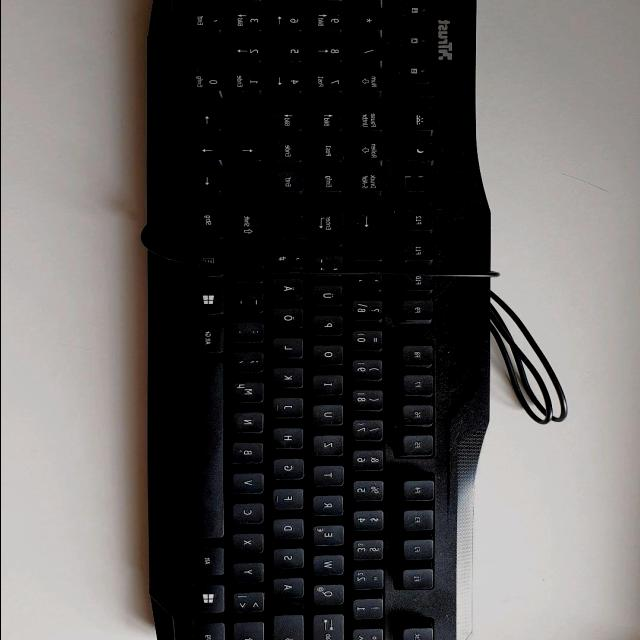0: (353, 331, 387, 355)
1: (354, 600, 386, 623)
2: (354, 570, 387, 593)
3: (353, 541, 387, 563)
4: (354, 511, 387, 533)
5: (353, 481, 387, 504)
6: (353, 451, 387, 474)
7: (353, 421, 386, 444)
8: (353, 390, 387, 414)
9: (353, 361, 386, 384)
a: (274, 579, 308, 601)
accent: (353, 274, 386, 295)
ae: (274, 280, 308, 304)
alt-left: (193, 549, 228, 579)
altgr-right: (192, 325, 228, 357)
b: (233, 444, 267, 467)
c: (233, 505, 267, 527)
caret: (354, 630, 387, 640)
comma: (235, 354, 268, 376)
d: (274, 520, 308, 542)
del: (353, 211, 387, 266)
e: (314, 527, 347, 549)
enter: (273, 210, 347, 249)
f: (275, 490, 307, 512)
g: (275, 460, 308, 482)
h: (274, 430, 307, 453)
hash: (274, 250, 308, 272)
i: (315, 377, 347, 399)
j: (275, 399, 308, 421)
k: (275, 369, 307, 391)
keyboard: (147, 0, 489, 640)
l: (275, 340, 307, 362)
less: (234, 593, 268, 616)
m: (234, 383, 268, 406)
minus: (234, 294, 268, 316)
n: (234, 413, 267, 436)
o: (315, 346, 347, 369)
oe: (274, 309, 306, 332)
p: (315, 317, 347, 339)
plus: (312, 257, 346, 276)
point: (235, 324, 267, 346)
q: (314, 586, 348, 609)
r: (315, 497, 347, 519)
s: (275, 550, 308, 572)
shift-left: (233, 624, 267, 640)
shift-lock: (273, 616, 307, 640)
shift-right: (233, 210, 269, 284)
space: (191, 362, 228, 542)
ss: (353, 301, 387, 325)
strg-left: (193, 624, 229, 640)
strg-right: (191, 208, 227, 242)
t: (315, 467, 347, 489)
tab: (313, 615, 348, 640)
u: (314, 406, 347, 429)
ue: (314, 286, 347, 310)
v: (234, 474, 268, 497)
w: (314, 556, 347, 578)
x: (234, 535, 267, 557)
y: (235, 564, 267, 586)
z: (315, 437, 347, 460)
